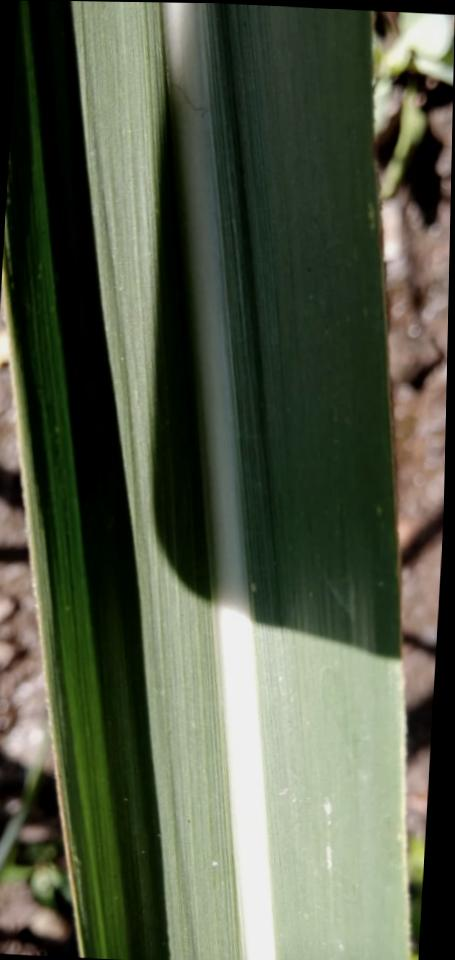Healthy: (0, 0, 410, 960)
